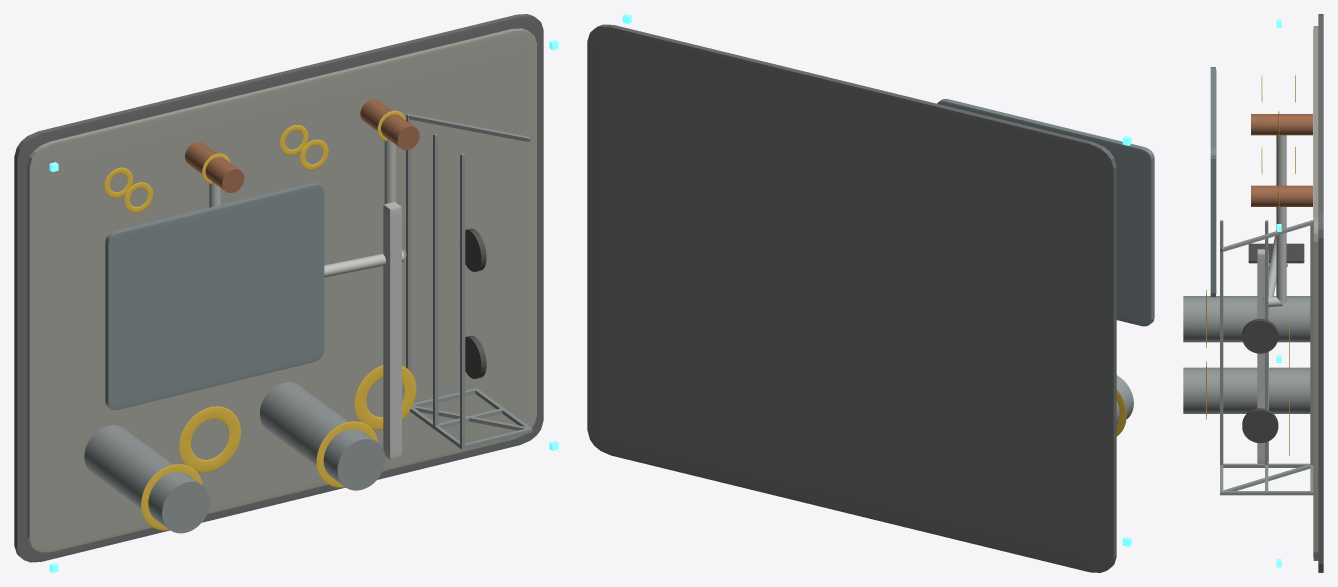
File: b-05-geothermal-plant-lod2.glb
3 renders of one model, left to right at view 1: azimuth 30°, elevation 25°; view 2: azimuth 150°, elevation 25°; view 3: azimuth 270°, elevation 25°, orthographic. The views are drawn at different scales.
Parts seen in each view (by area): view 1: foundation_inner_pad, turbine_hall_roof, foundation, steam_separator_0_vessel, steam_separator_2_vessel, primary_pipe_collector, steam_separator_1_ring_low, fan_bank_beam_y_2_w, fan_bank_beam_y_1_w, well_head_3_stack, well_head_1_stack, steam_separator_3_ring_low (+8 smaller); view 2: foundation, turbine_hall_roof; view 3: steam_separator_2_vessel, steam_separator_0_vessel, foundation, foundation_inner_pad, turbine_hall_roof, well_head_1_stack, well_head_3_stack, primary_pipe_collector, cooling_fan_3, cooling_fan_1, fan_bank_beam_y_0_w, geothermal_header_3_segment_1 (+9 smaller).
Part boxes in pixels (x1,y1,x2,y2): foundation_inner_pad: [27, 28, 536, 552]; turbine_hall_roof: [105, 182, 324, 409]; foundation: [14, 14, 543, 562]; steam_separator_0_vessel: [84, 425, 209, 533]; steam_separator_2_vessel: [260, 382, 385, 490]; primary_pipe_collector: [383, 202, 401, 459]; steam_separator_1_ring_low: [179, 406, 240, 472]; fan_bank_beam_y_2_w: [460, 153, 465, 448]; fan_bank_beam_y_1_w: [433, 133, 438, 426]; well_head_3_stack: [360, 99, 419, 150]; well_head_1_stack: [185, 142, 244, 192]; steam_separator_3_ring_low: [354, 365, 416, 429]; foundation: [587, 24, 1116, 572]; turbine_hall_roof: [937, 99, 1154, 326]; steam_separator_2_vessel: [1183, 367, 1310, 413]; steam_separator_0_vessel: [1183, 296, 1310, 342]; foundation: [1318, 14, 1323, 572]; foundation_inner_pad: [1313, 26, 1318, 560]; turbine_hall_roof: [1210, 67, 1216, 297]; well_head_1_stack: [1251, 114, 1312, 135]; well_head_3_stack: [1251, 185, 1312, 206]; primary_pipe_collector: [1257, 249, 1268, 463]; cooling_fan_3: [1242, 318, 1278, 353]; cooling_fan_1: [1242, 408, 1278, 443]; fan_bank_beam_y_0_w: [1310, 220, 1313, 464]; geothermal_header_3_segment_1: [1276, 207, 1286, 303].
Size of what is drawn, in the model's own units: 18 by 14 by 4.98.
